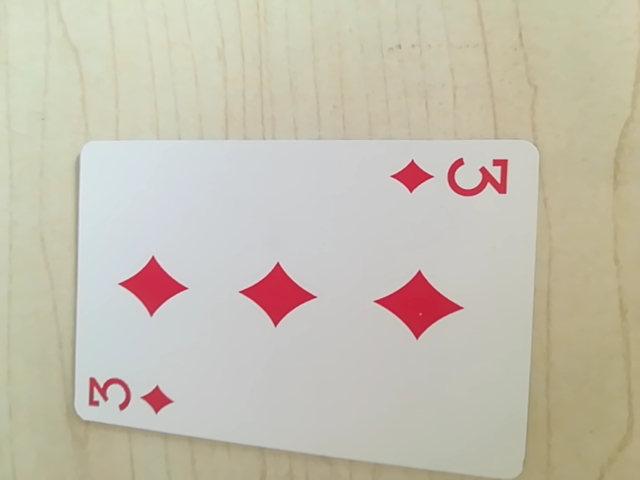fk 3: (390, 152, 515, 203), (81, 365, 183, 422)
